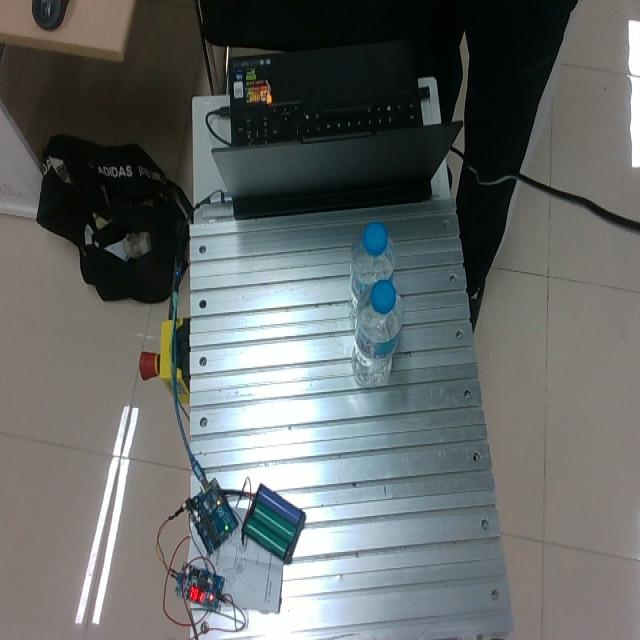lavie: (350, 278, 403, 390), (348, 223, 396, 325)
